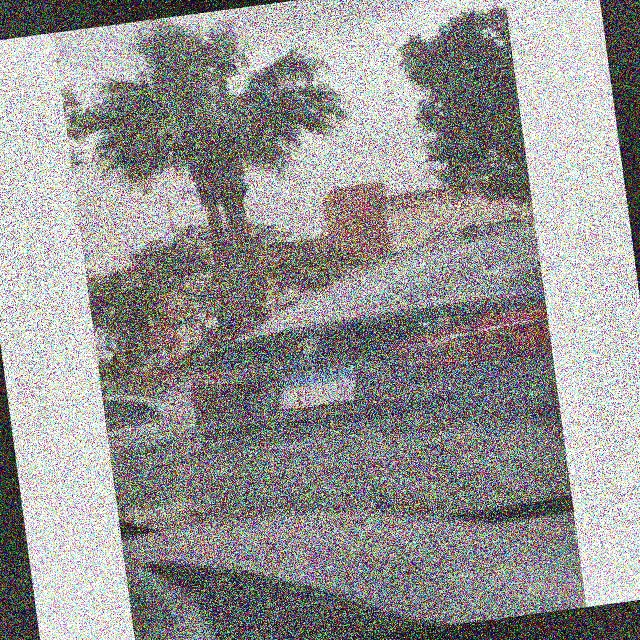License Plate: (271, 358, 365, 415)
